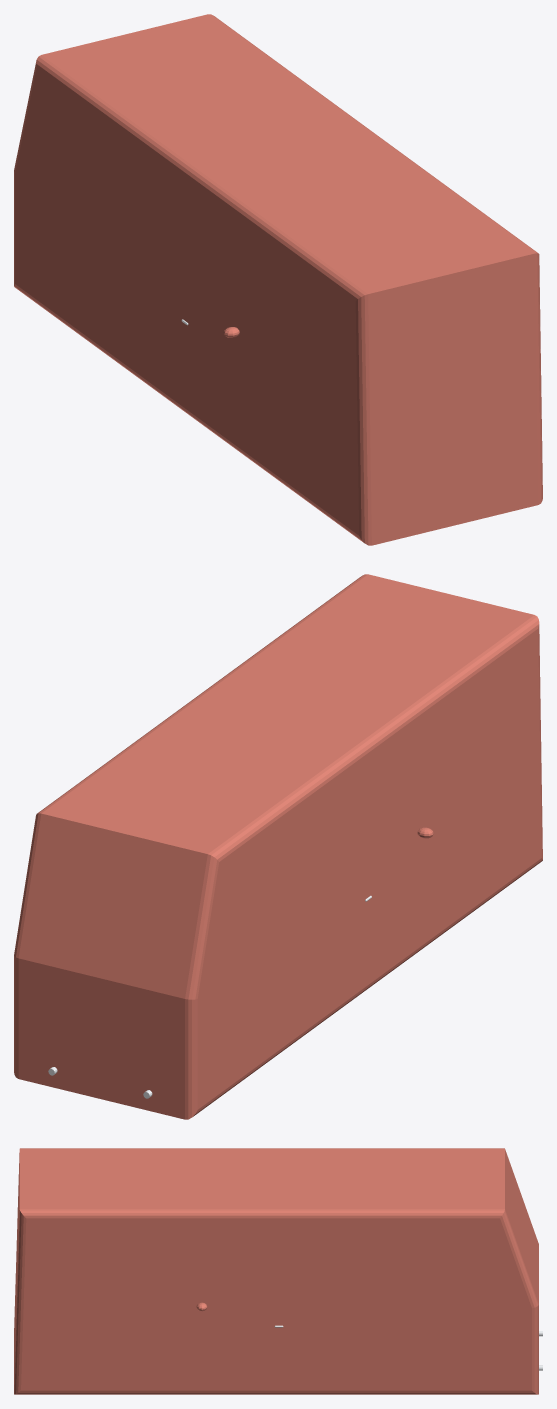
Rendered from veh_carreta.glb.
3 renders of one model, top to bottom at view 1: azimuth 30°, elevation 25°; view 2: azimuth 150°, elevation 25°; view 3: azimuth 270°, elevation 25°, orthographic. The views are drawn at different scales.
Visible parts, largest first — view 1: veh_carreta; view 2: veh_carreta; view 3: veh_carreta.
Part boxes in pixels (left/top/right/bottom): veh_carreta: left=14, top=14, right=542, bottom=545; veh_carreta: left=14, top=574, right=542, bottom=1119; veh_carreta: left=14, top=1148, right=542, bottom=1394.
Bounding box in the file's own units: 2.86 × 3.26 × 8.45.
